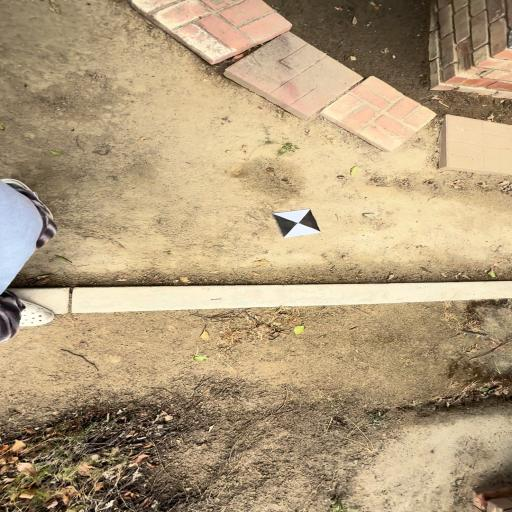target: (273, 209, 321, 238)
